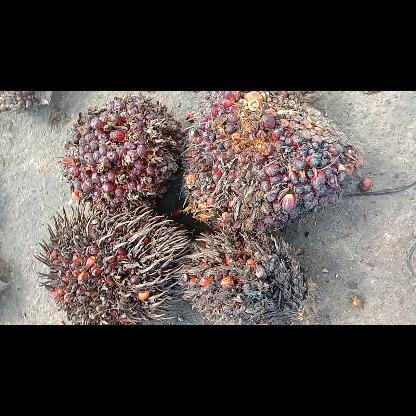TBS masak: (182, 90, 358, 232), (61, 95, 185, 213)
Terlalu masak: (34, 202, 190, 324), (176, 226, 314, 324)
